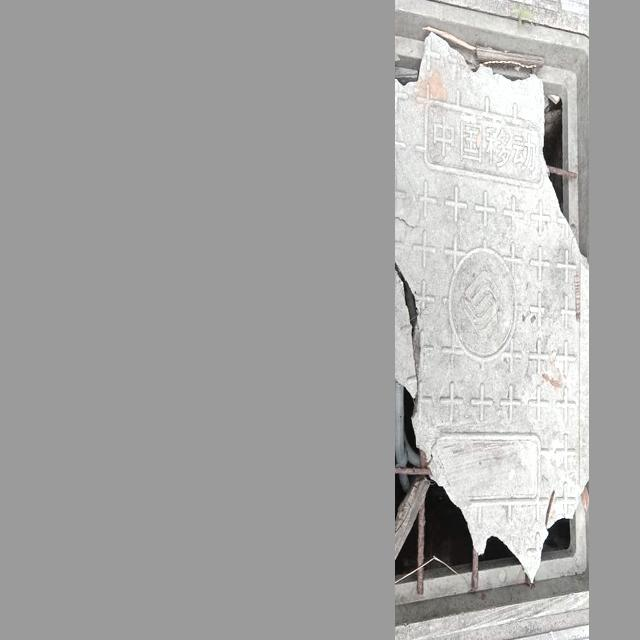broke: (396, 9, 589, 633)
